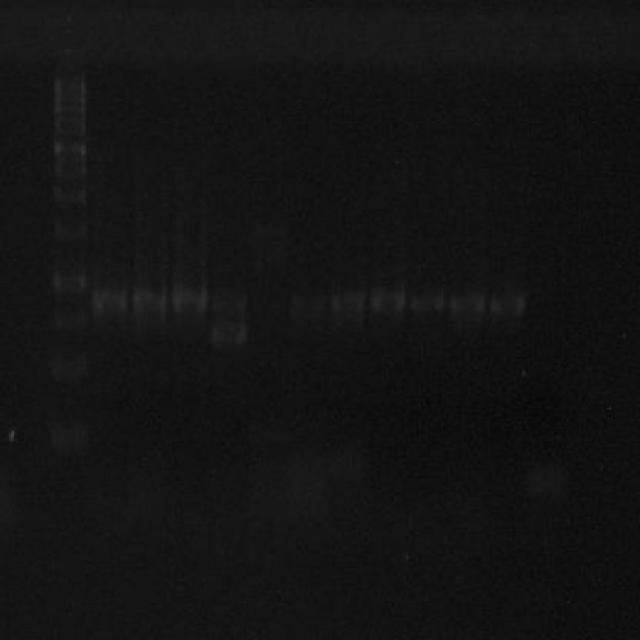B: (130, 278, 170, 324), (90, 278, 128, 326), (170, 275, 210, 320), (368, 280, 408, 320), (408, 280, 446, 318), (448, 282, 488, 318), (488, 284, 528, 320), (211, 314, 251, 350), (212, 278, 252, 312), (330, 286, 367, 322)
M: (44, 51, 94, 460)
P: (46, 347, 88, 385), (47, 422, 87, 456), (49, 300, 88, 334), (48, 268, 90, 298), (53, 64, 89, 94), (49, 217, 89, 243), (50, 180, 87, 206), (51, 115, 88, 138), (49, 138, 89, 158), (50, 158, 88, 179), (51, 104, 88, 116), (52, 93, 90, 104)
